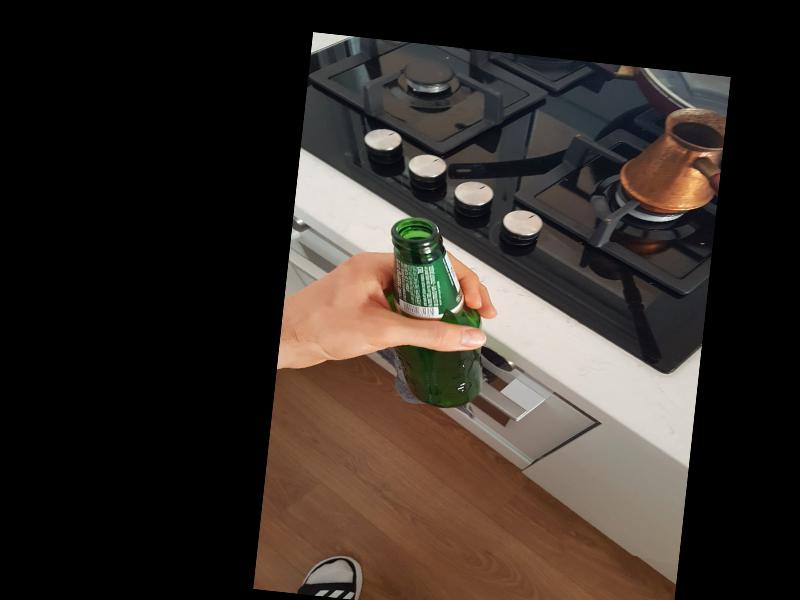Beer: (373, 214, 497, 412)
